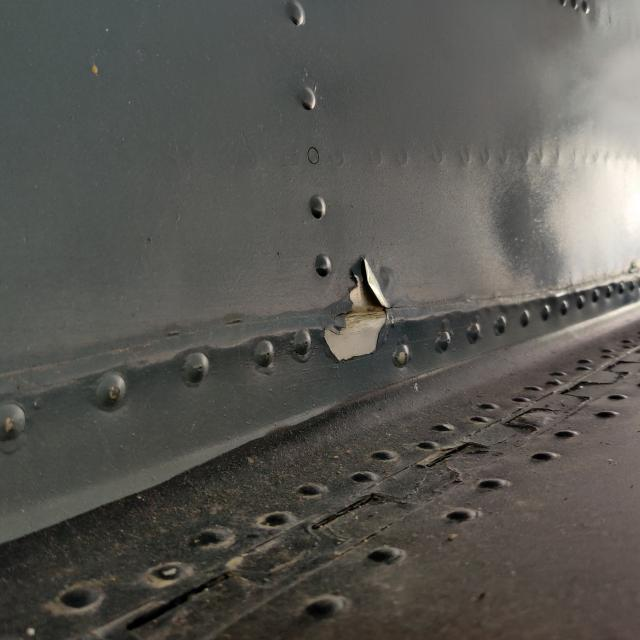paint-off: (312, 250, 406, 373)
